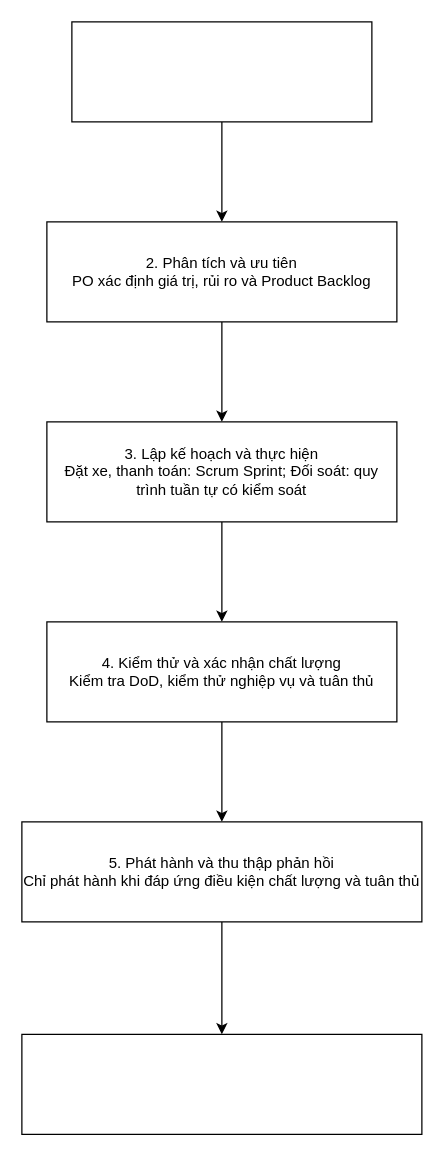
Image size: 444x1156. Some labels were removed from this diagram. Here are the shapes that lost their labels. From the top down, the box of each, then its label:
(71, 21, 372, 122): 1. Tiếp nhận nhu cầu Người dùng, thị trường hoặc quy định thuế
(21, 1033, 422, 1134): 6. Đánh giá và cải tiến Sprint Review, Retrospective hoặc đánh giá sau phát hành
